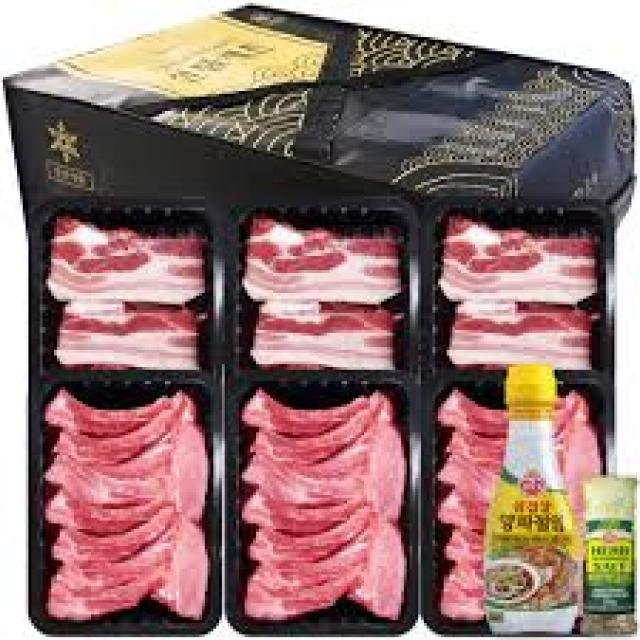pork: (5, 170, 628, 640)
